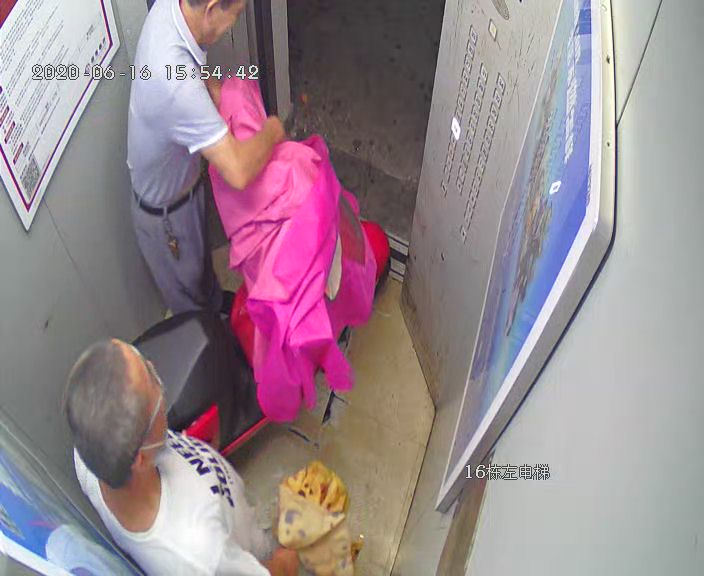Electric-bicycle: (156, 212, 390, 429)
